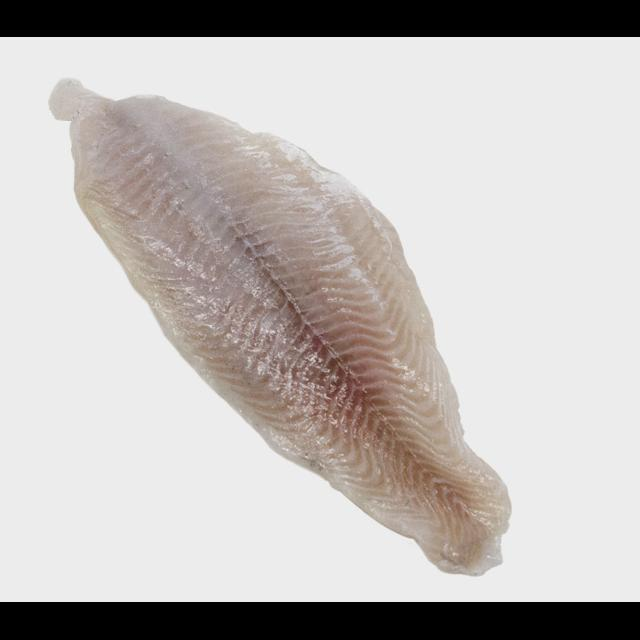fish: (30, 66, 561, 581)
